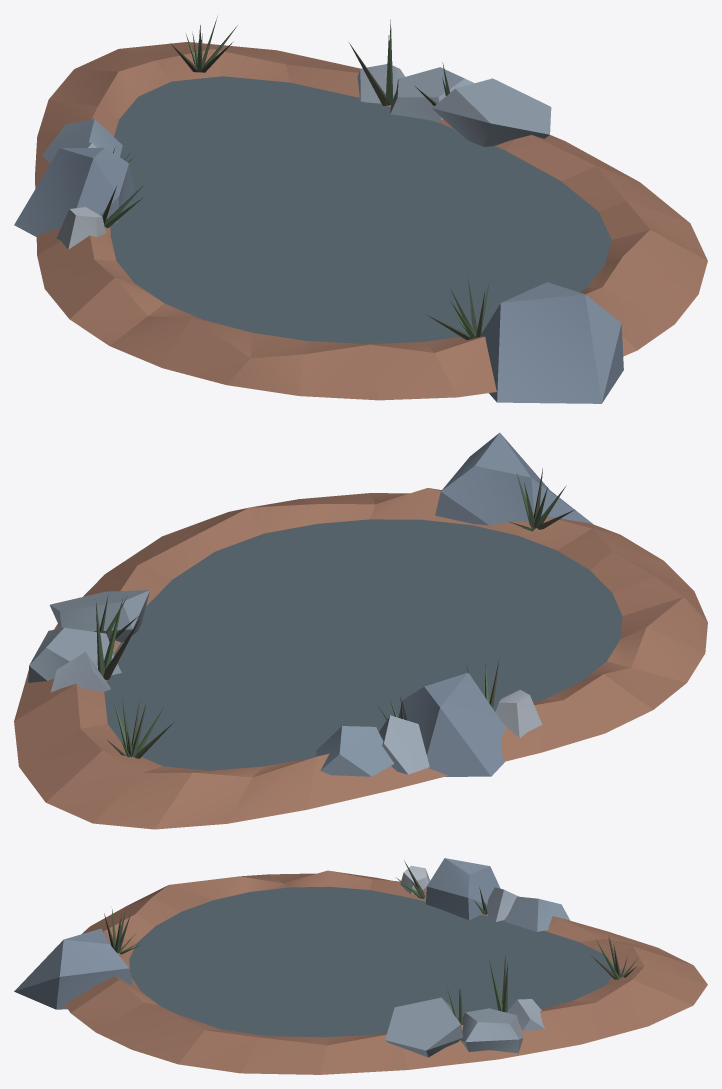
3 views of the same model, one above another, from view 1: azimuth 30°, elevation 25°; view 2: azimuth 150°, elevation 25°; view 3: azimuth 270°, elevation 25° (orthographic). The views are drawn at different scales.
Parts seen in each view (by area): view 1: Pond_Texture-base-gloss-jpg_0, Pond_Texture-base_0; view 2: Pond_Texture-base_0, Pond_Texture-base-gloss-jpg_0; view 3: Pond_Texture-base_0, Pond_Texture-base-gloss-jpg_0.
Part boxes in pixels (x1=…): Pond_Texture-base-gloss-jpg_0: x1=110, y1=76, x2=611, y2=343; Pond_Texture-base_0: x1=14, y1=16, x2=707, y2=403; Pond_Texture-base_0: x1=14, y1=432, x2=707, y2=829; Pond_Texture-base-gloss-jpg_0: x1=104, y1=519, x2=622, y2=770; Pond_Texture-base_0: x1=14, y1=858, x2=707, y2=1074; Pond_Texture-base-gloss-jpg_0: x1=129, y1=886, x2=614, y2=1037.
Size of the model in its own units: 3.75 by 0.6625 by 5.45.
Materials: 2 (2 with a texture image).
